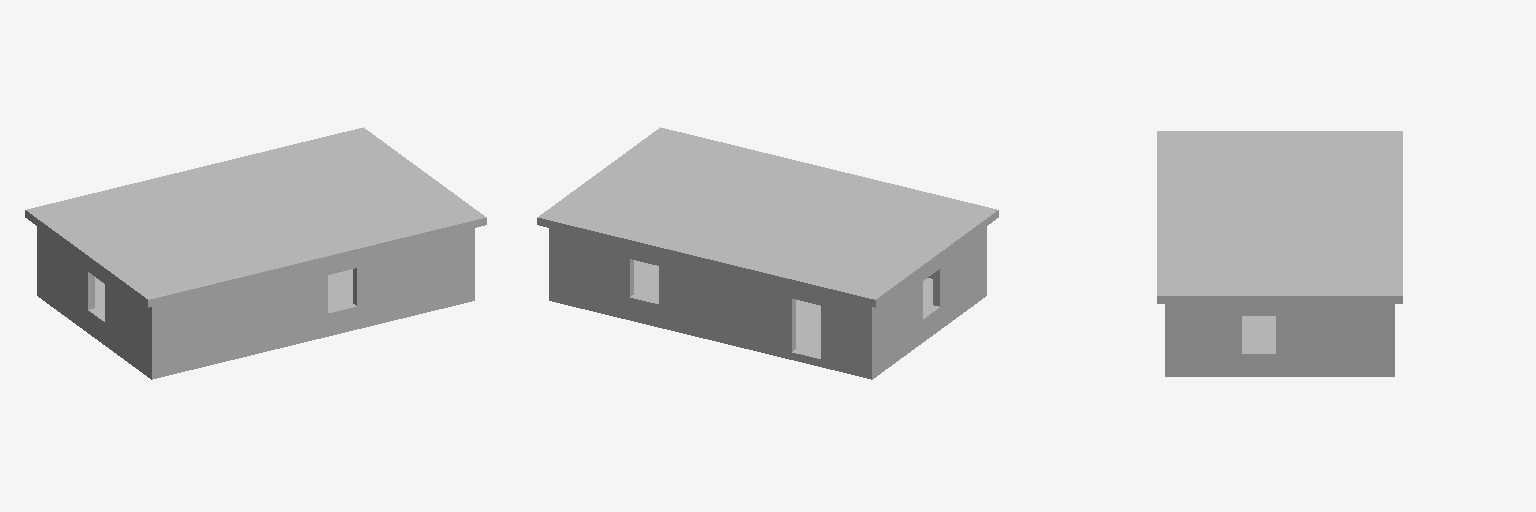
The model's file is house5.obj.
3 views of the same model, side by side, from view 1: azimuth 30°, elevation 25°; view 2: azimuth 150°, elevation 25°; view 3: azimuth 270°, elevation 25° (orthographic).
Parts seen in each view (by area): view 1: object 1; view 2: object 1; view 3: object 1.
Part boxes in pixels (bbox=[...]): object 1: bbox=[25, 127, 486, 379]; object 1: bbox=[537, 127, 998, 379]; object 1: bbox=[1157, 131, 1402, 376].
Bounding box in the file's own units: 4.6 × 1.1 × 2.9.